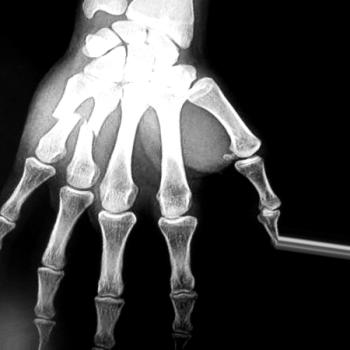Fracture: (48, 103, 84, 125)
